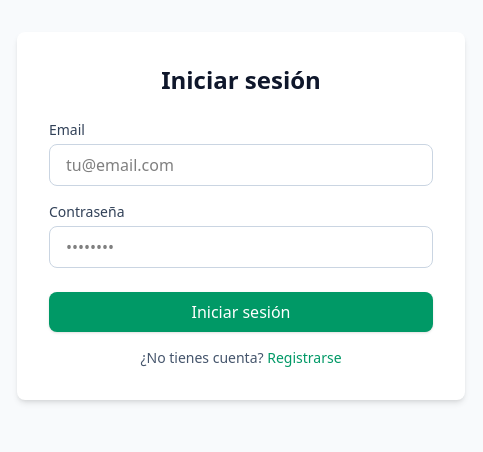
<Login /> › debe mostrar error si el email no es válido
The width and height of the screenshot is (483, 452).
Type "email-invalido" into the field labelled "Email" at [241, 165], box [49,144,433,186]
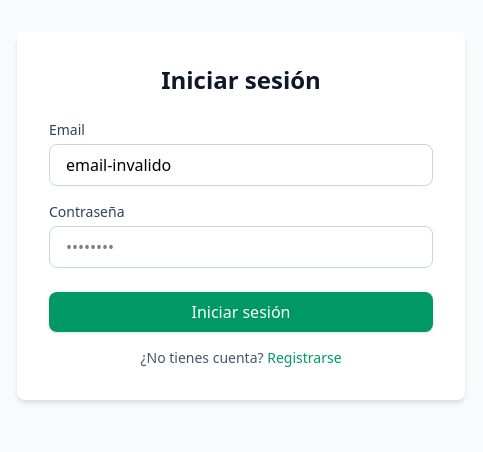
Type "123456" into the password field labelled "Contraseña" at [241, 247], box [49,226,433,268]
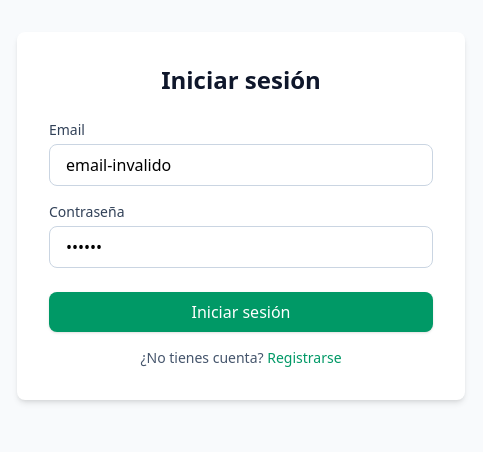
Submit the form "Iniciar sesión"
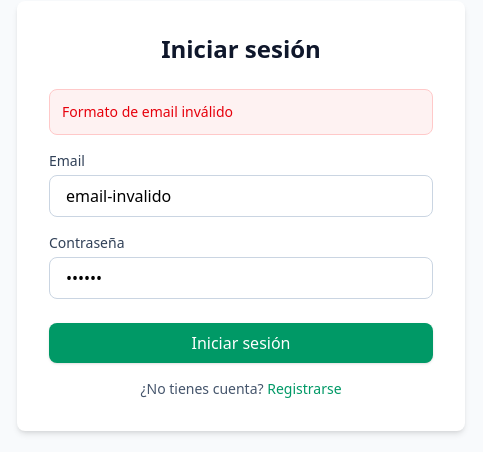
Expected: the text "Formato de email inválido" is shown, [62,102,233,121]
